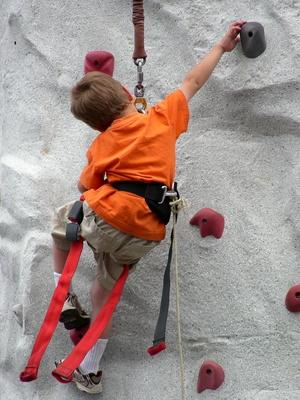person: (52, 20, 246, 396)
